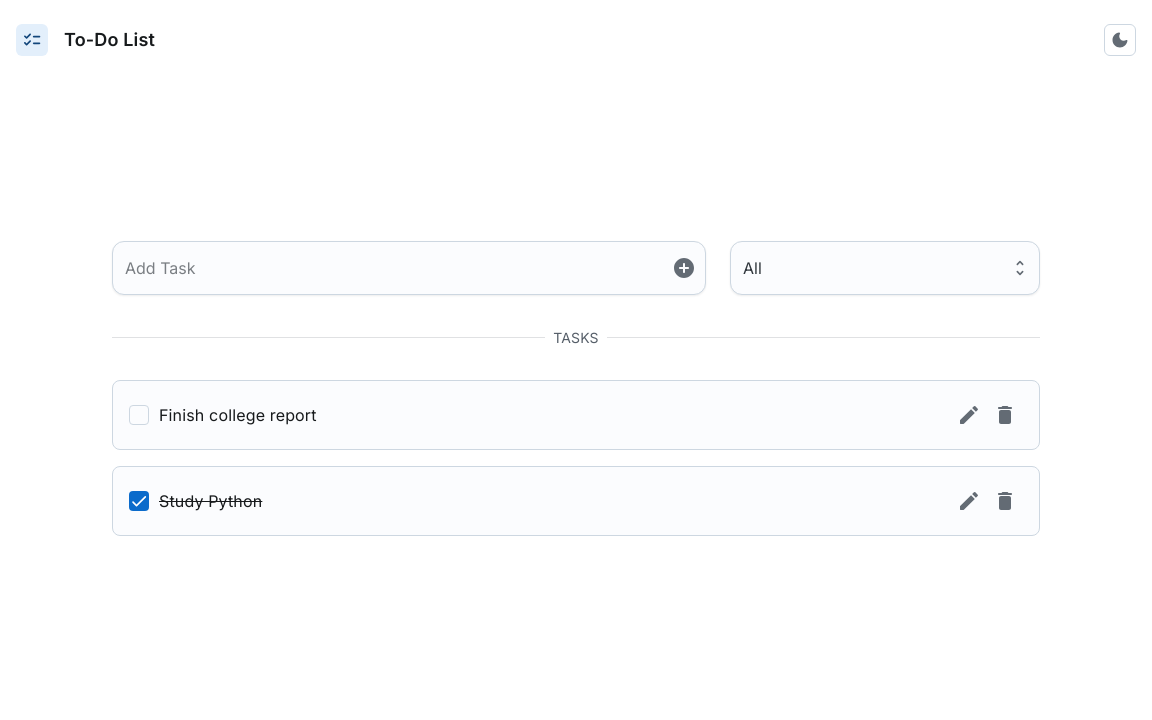
TodoPage › creates a task
Type "Buy groceries" into the field with placeholder "Add Task". click: (392, 268)
box: top-left (125, 250), bottom-right (658, 286)
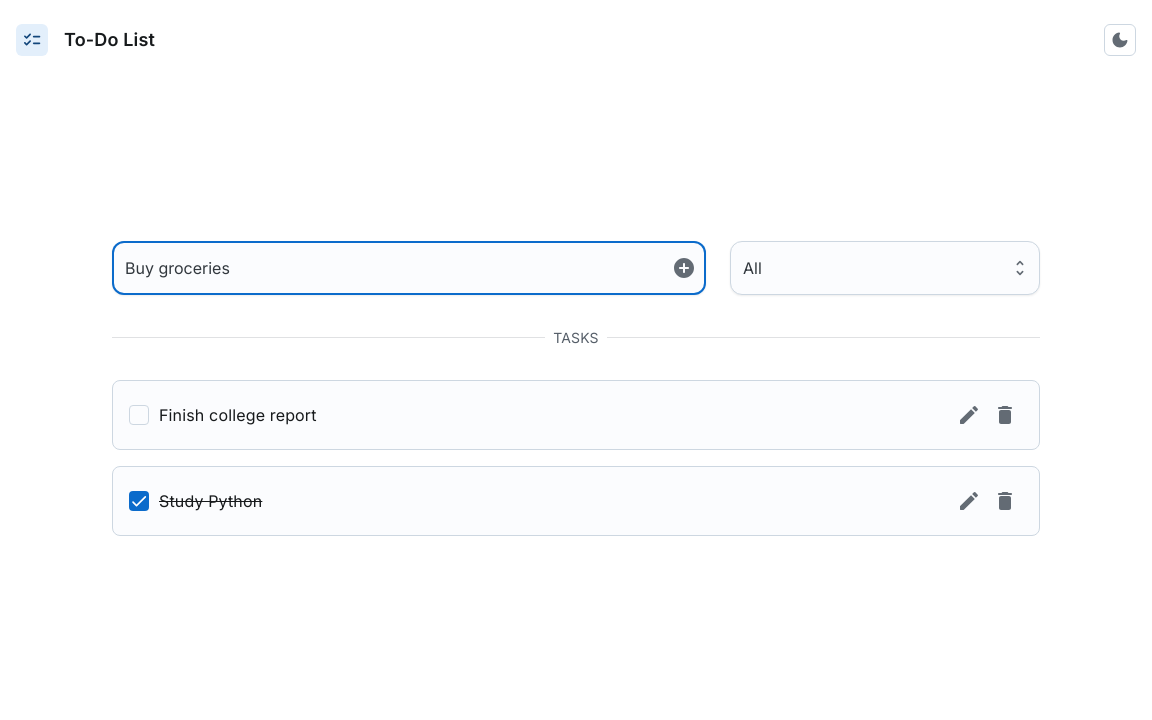
Click the button with test id "AddCircleRoundedIcon". click: (684, 268)
box: top-left (666, 250), bottom-right (702, 286)
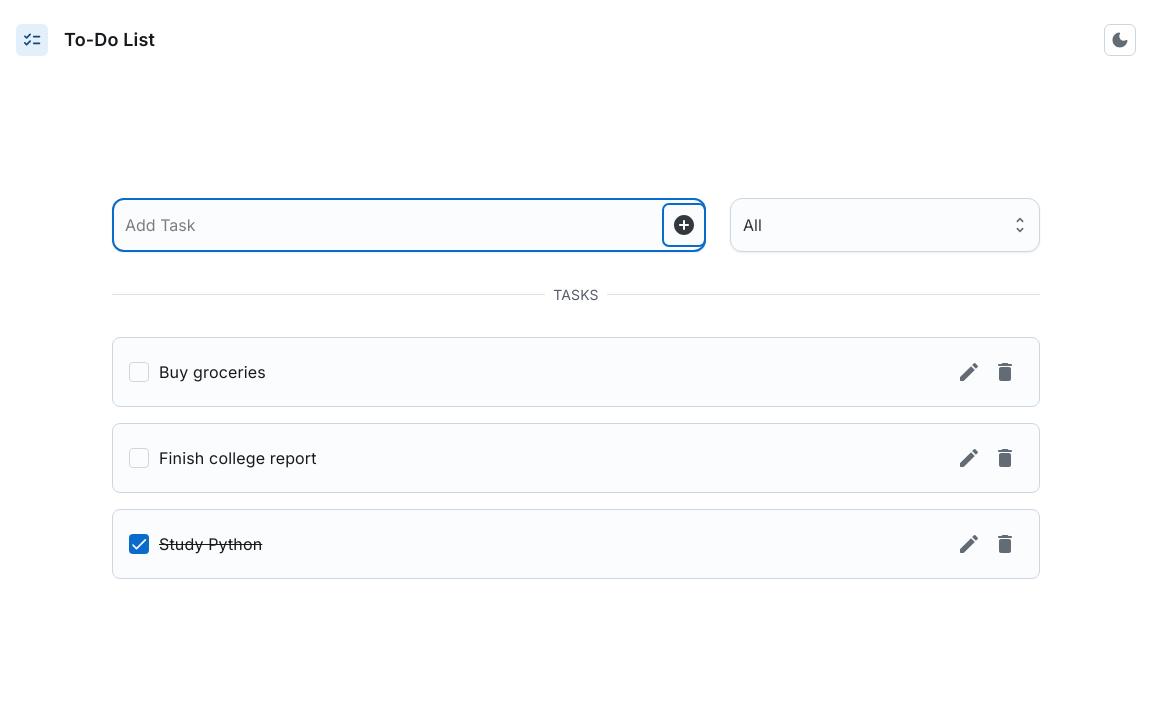
Expected: the checkbox "Buy groceries" is shown, top-left (159, 362), bottom-right (266, 382)
